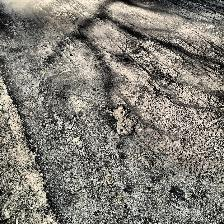pothole: (103, 103, 137, 135), (48, 10, 84, 32)
